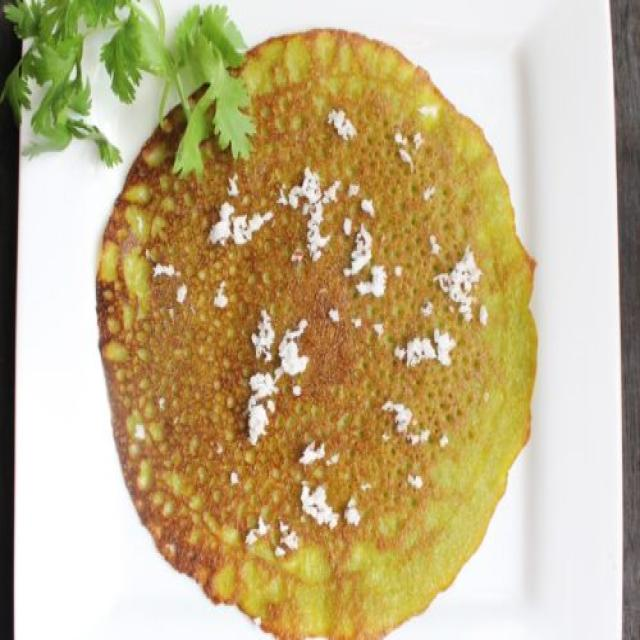DOSA: (96, 29, 536, 638)
